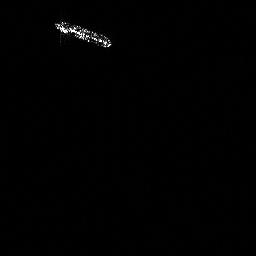ship: (51, 15, 113, 50)
